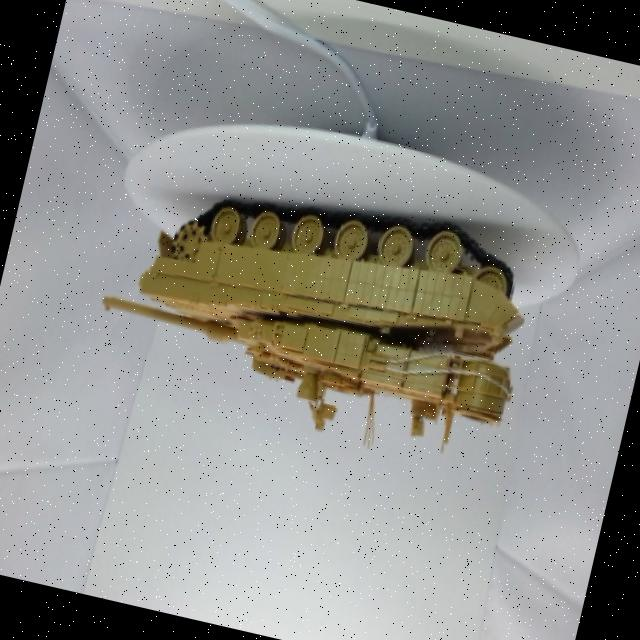korea tank: (49, 134, 568, 496)
